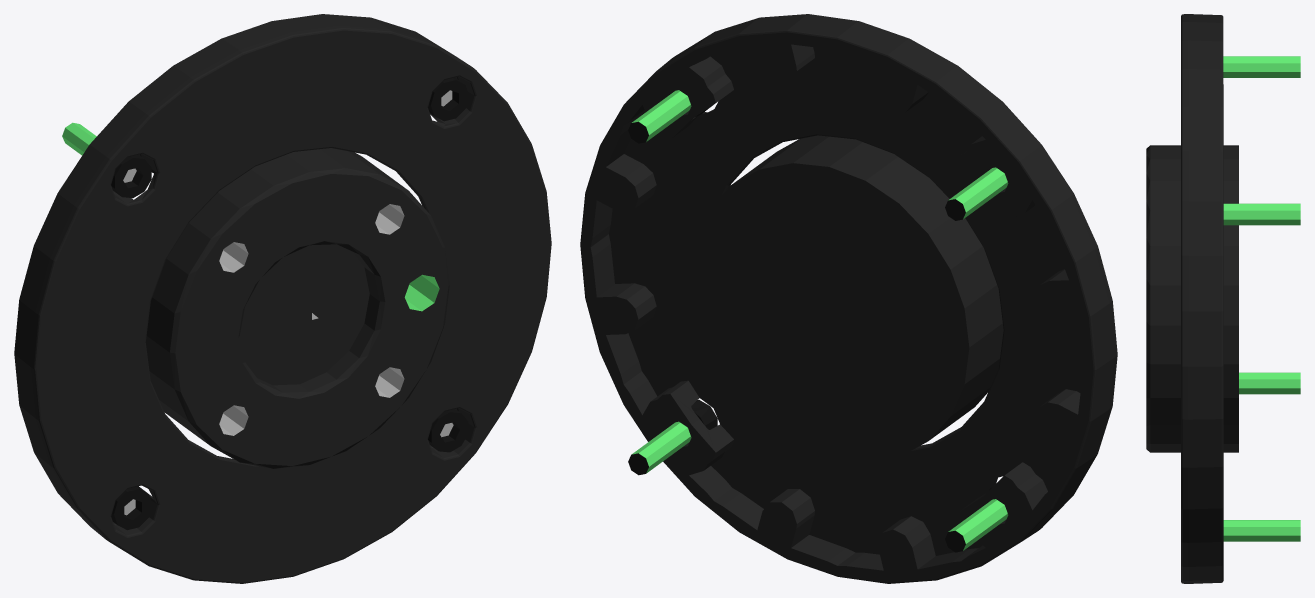
3 views of the same model, side by side, from view 1: azimuth 30°, elevation 25°; view 2: azimuth 150°, elevation 25°; view 3: azimuth 270°, elevation 25° (orthographic). The views are drawn at different scales.
Parts seen in each view (by area): view 1: node; view 2: node; view 3: node.
Part boxes in pixels (bbox=[...]): node: bbox=[14, 14, 551, 583]; node: bbox=[580, 14, 1117, 583]; node: bbox=[1146, 14, 1300, 583].
Size of the model in its own units: 74 by 74 by 20.
